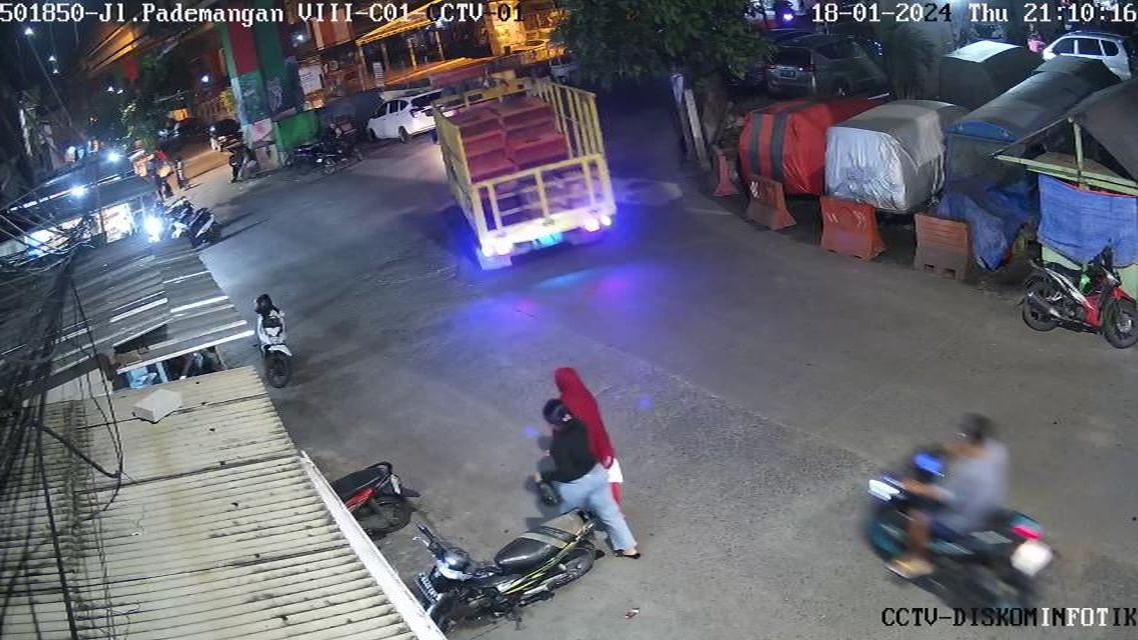Terpal: (1028, 170, 1138, 273), (825, 118, 928, 197), (750, 109, 816, 165)
